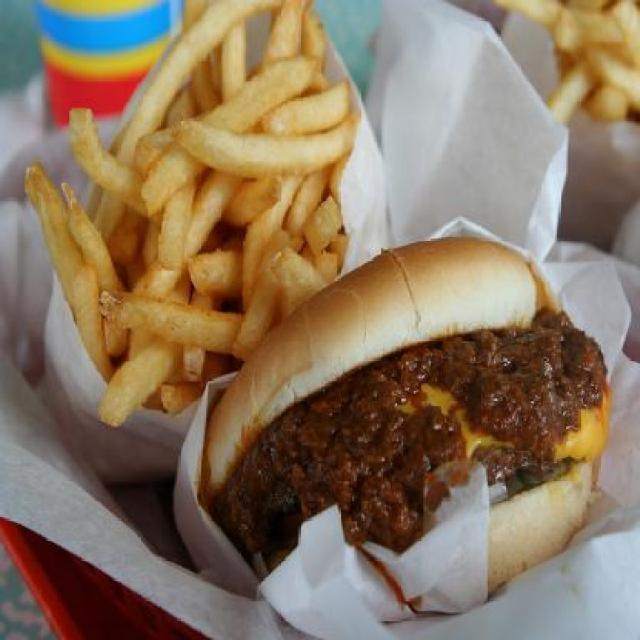french fries: (20, 1, 343, 433)
hamburger: (192, 226, 622, 599)
